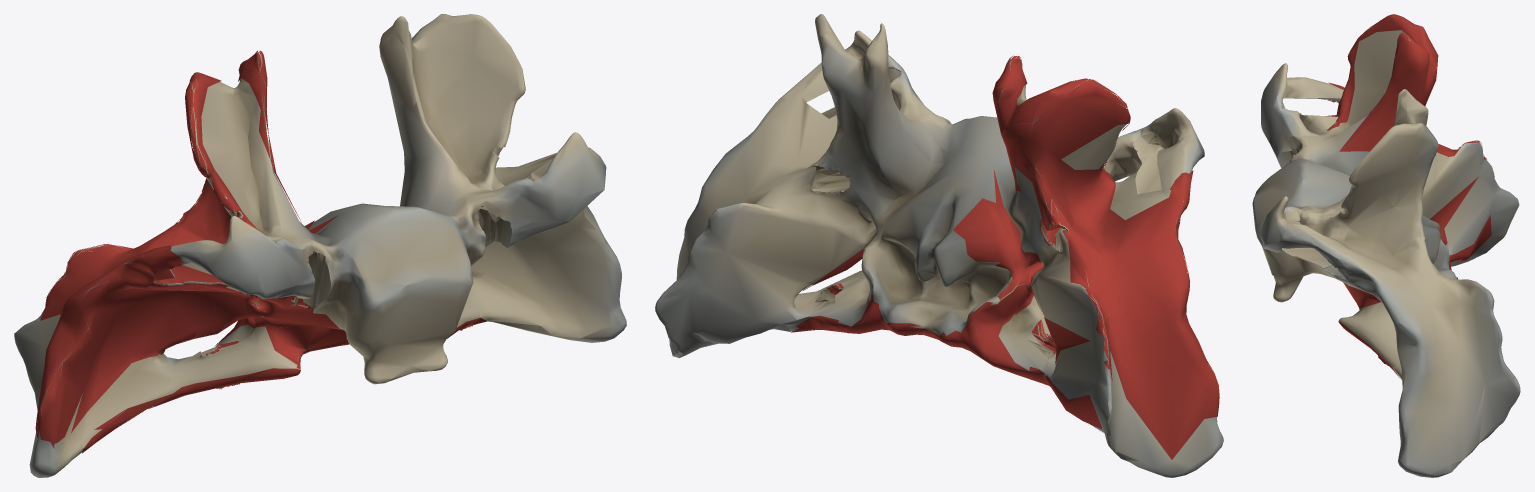
The model's file is os-sphenoidale.glb.
3 renders of one model, left to right at view 1: azimuth 30°, elevation 25°; view 2: azimuth 150°, elevation 25°; view 3: azimuth 270°, elevation 25°, orthographic. The views are drawn at different scales.
Visible parts, largest first — view 1: FJ3394, origo__ala-major-foramina__m-pterygoideus-lateralis, origo__sella-ala-minor__mm-recti-oculi, origo__processus-pterygoideus__m-tensor-veli-palatini, os-sphenoidale__ala-major-foramina; view 2: FJ3394, origo__ala-major-foramina__m-pterygoideus-lateralis, origo__processus-pterygoideus__m-tensor-veli-palatini, origo__sella-ala-minor__mm-recti-oculi, os-sphenoidale__sella-ala-minor, os-sphenoidale__ala-major-foramina; view 3: FJ3394, origo__processus-pterygoideus__m-tensor-veli-palatini, origo__sella-ala-minor__mm-recti-oculi, origo__ala-major-foramina__m-pterygoideus-lateralis.
Part boxes in pixels (x1,y1,x2,y2): FJ3394: (14, 14, 626, 477); origo__ala-major-foramina__m-pterygoideus-lateralis: (35, 186, 338, 435); origo__sella-ala-minor__mm-recti-oculi: (37, 292, 487, 453); origo__processus-pterygoideus__m-tensor-veli-palatini: (185, 50, 301, 233); os-sphenoidale__ala-major-foramina: (37, 207, 338, 428); FJ3394: (655, 14, 1223, 477); origo__ala-major-foramina__m-pterygoideus-lateralis: (953, 159, 1219, 459); origo__processus-pterygoideus__m-tensor-veli-palatini: (992, 56, 1130, 220); origo__sella-ala-minor__mm-recti-oculi: (791, 249, 1219, 429); os-sphenoidale__sella-ala-minor: (791, 248, 1103, 432); os-sphenoidale__ala-major-foramina: (953, 159, 1192, 459); FJ3394: (1252, 30, 1520, 477); origo__processus-pterygoideus__m-tensor-veli-palatini: (1327, 14, 1438, 151); origo__sella-ala-minor__mm-recti-oculi: (1338, 176, 1491, 377); origo__ala-major-foramina__m-pterygoideus-lateralis: (1326, 82, 1486, 159).
Bounding box in the file's own units: 111 × 69.68 × 54.61.
